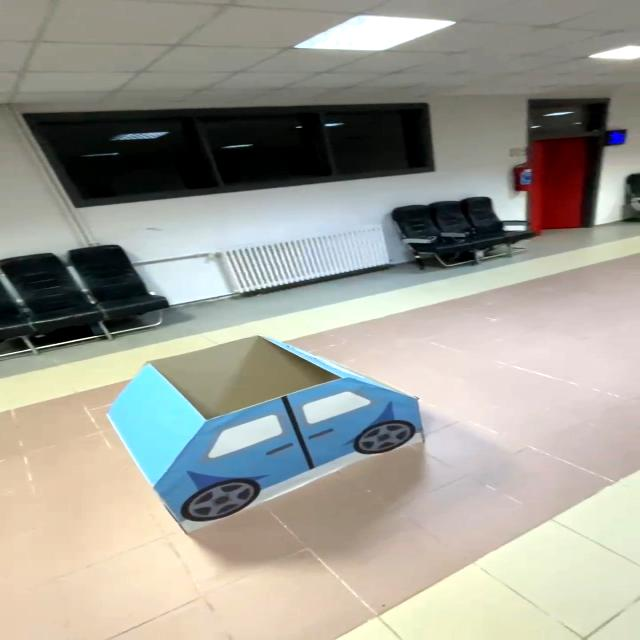blue_car: (92, 321, 441, 551)
